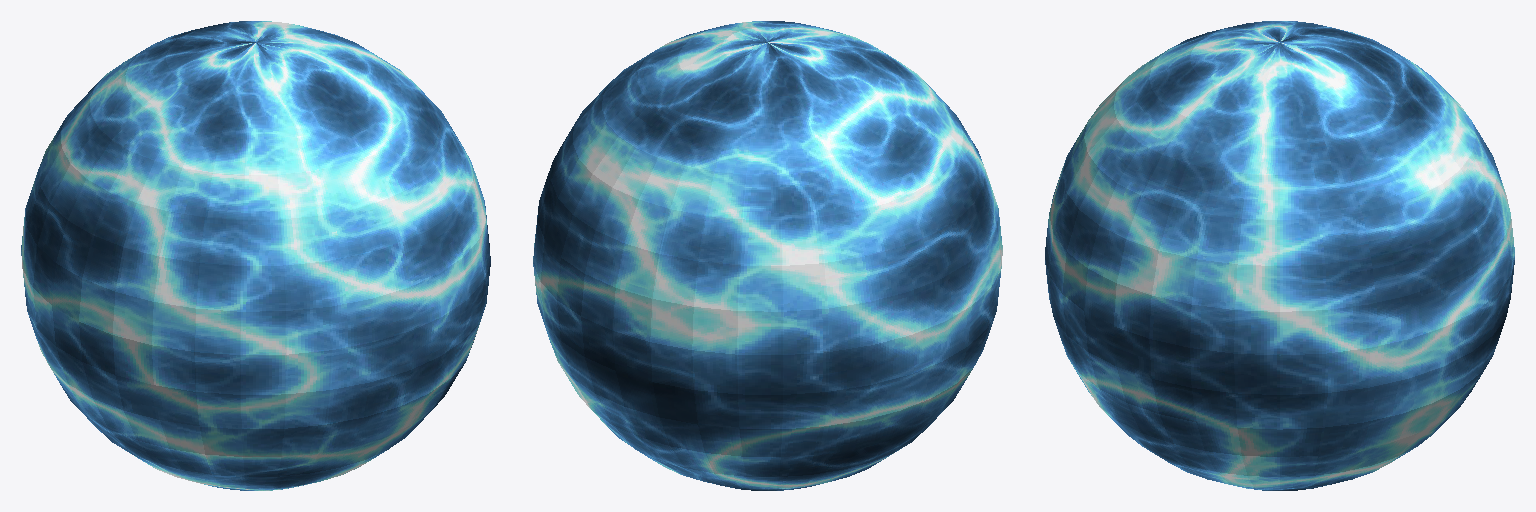
3 renders of one model, left to right at view 1: azimuth 30°, elevation 25°; view 2: azimuth 150°, elevation 25°; view 3: azimuth 270°, elevation 25°, orthographic.
Visible parts, largest first — view 1: Sphere; view 2: Sphere; view 3: Sphere.
Part boxes in pixels (x1,y1,x2,y2): Sphere: (21,21,490,490); Sphere: (533,21,1002,490); Sphere: (1045,21,1514,490).
Bounding box in the file's own units: 2 × 2 × 2.
1 materials, 1 textured.